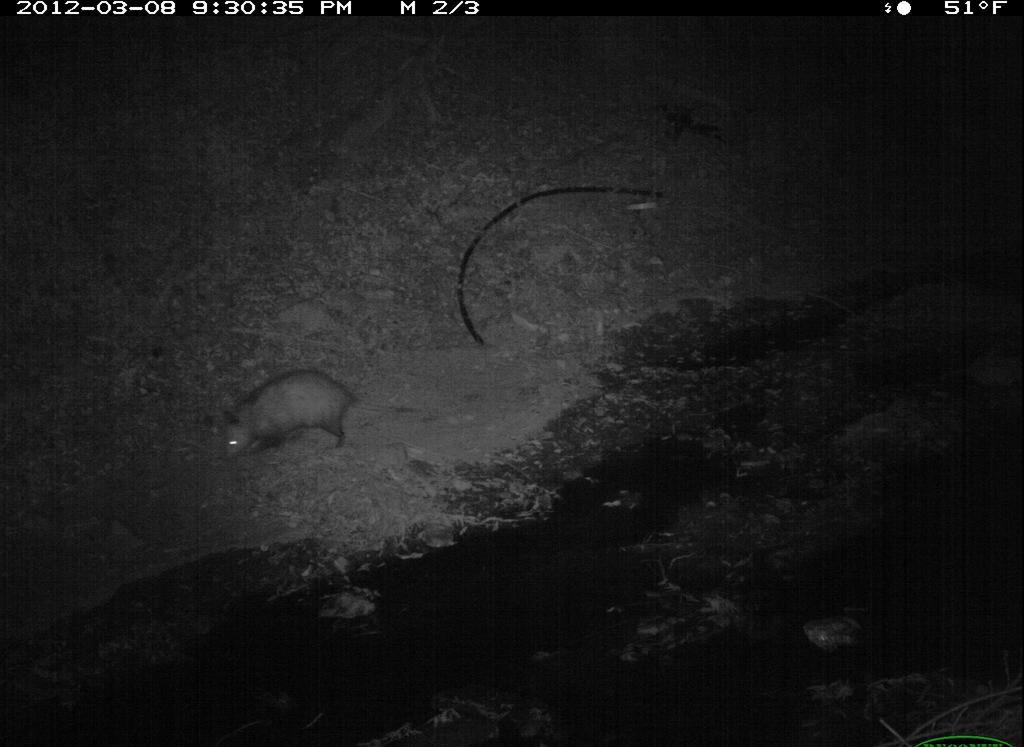opossum: (209, 363, 367, 466)
